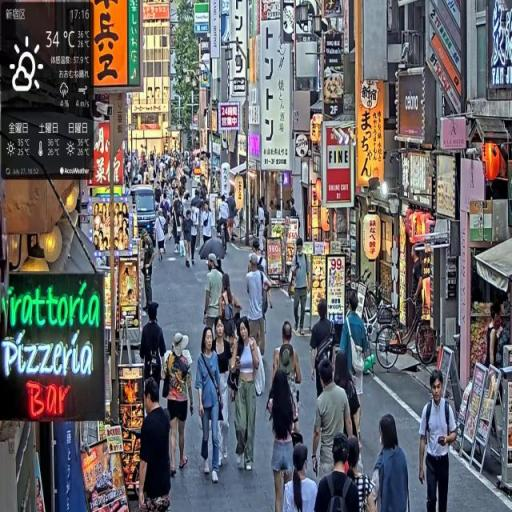person: (419, 370, 460, 512), (232, 317, 265, 473), (313, 361, 354, 483), (137, 378, 174, 512), (163, 333, 195, 479), (196, 328, 224, 487), (371, 412, 412, 512), (211, 317, 237, 467), (315, 433, 362, 512), (141, 300, 169, 407), (280, 439, 318, 512), (310, 296, 336, 401), (289, 235, 311, 336), (204, 257, 225, 347), (155, 206, 169, 267), (184, 208, 197, 272)
